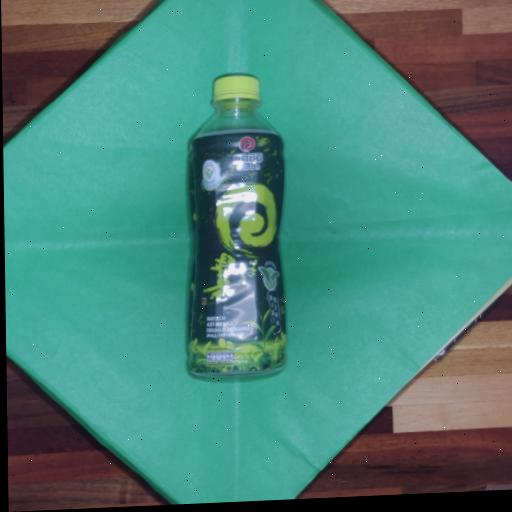bottle: (154, 69, 318, 398)
